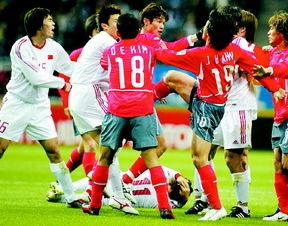falling: (35, 154, 200, 213)
